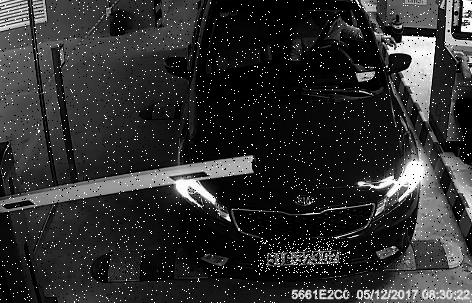License-plate: (260, 240, 352, 275)
